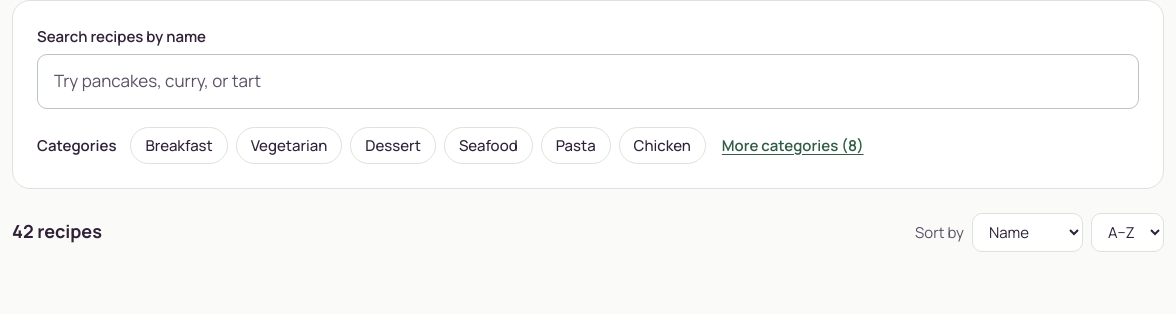
Test: DiscoveryToolbar categories › expands and collapses the remaining categories alphabetically
The image size is (1176, 314).
Expected: the button "Beef" is not shown
Click the button "More categories (8)" at (793, 145), box [714,128,872,163]
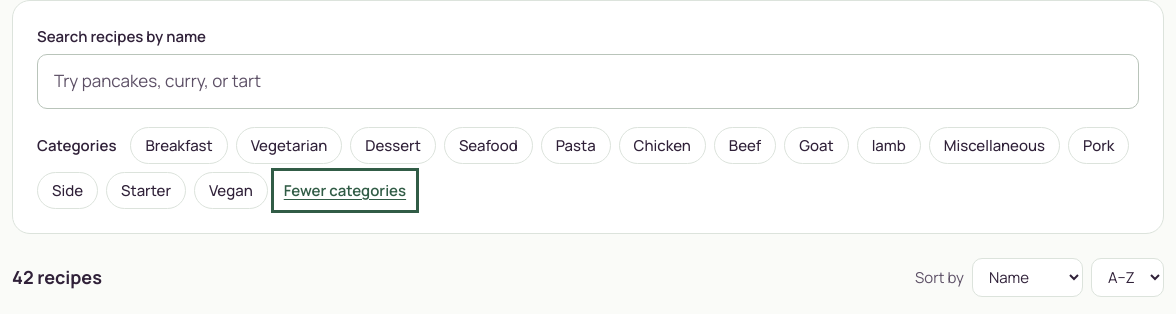
Result: the button "Fewer categories" is expanded
Click the button "Fewer categories" at (345, 190), box [276,173,414,208]
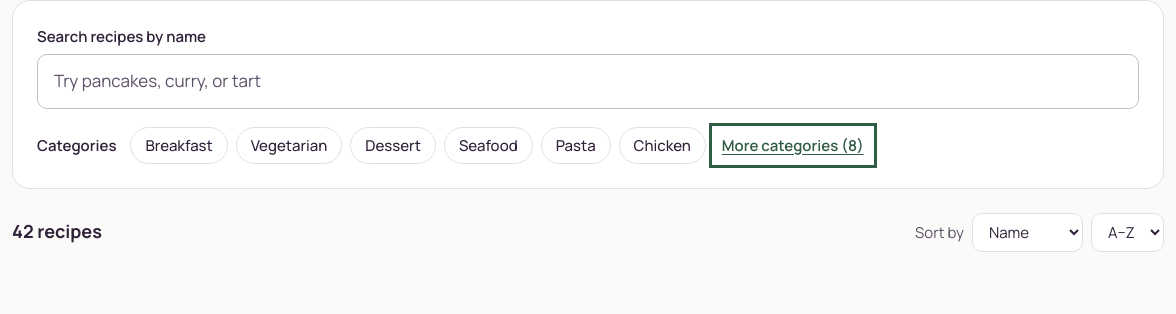
Result: the button "More categories (8)" is collapsed at [714,128,872,163]
Result: the button "Beef" is gone
